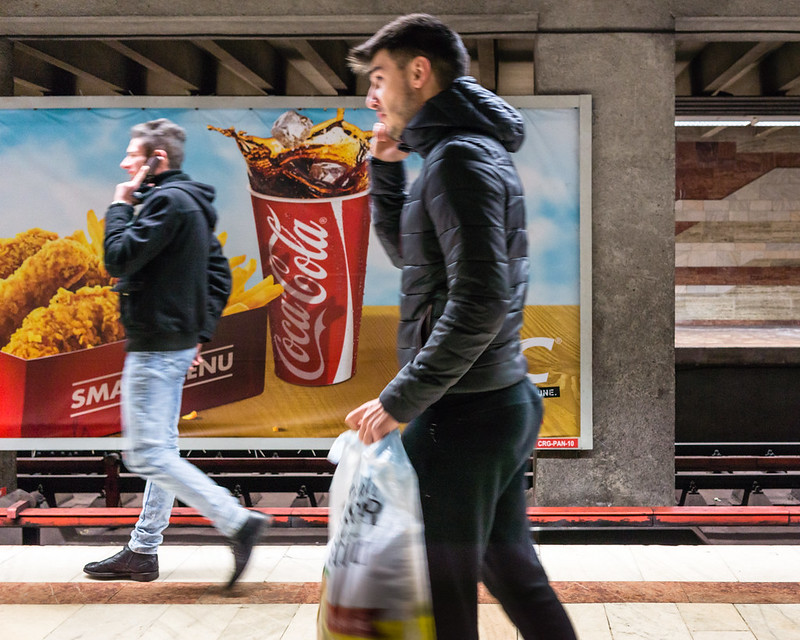phone: (354, 90, 402, 160)
